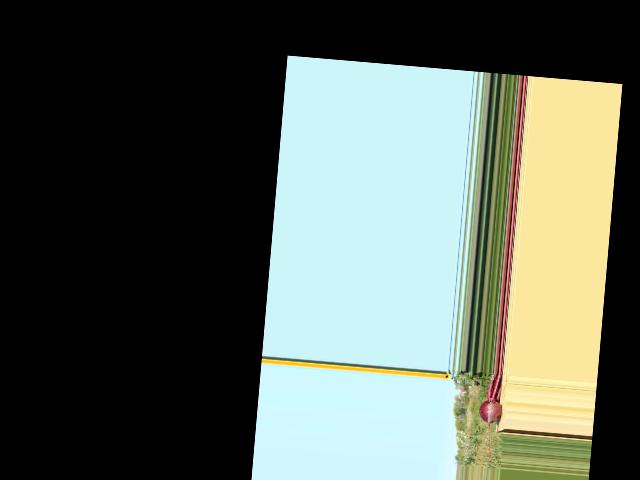beet: (475, 371, 505, 465)
